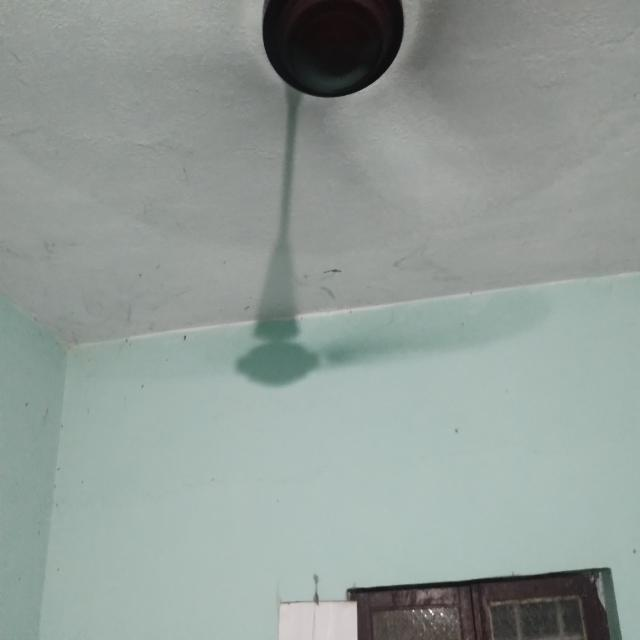fan_on: (1, 0, 640, 251)
